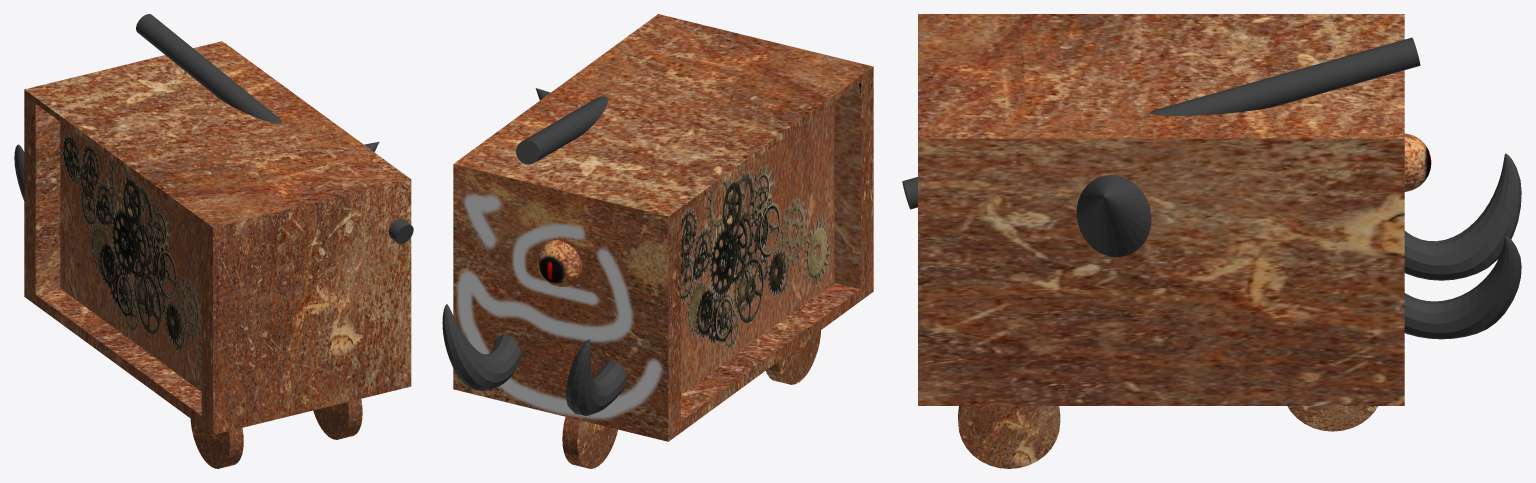
File: MetalBoar.gltf
The picture shows the model from 3 angles, left to right: view 1: azimuth 30°, elevation 25°; view 2: azimuth 150°, elevation 25°; view 3: azimuth 270°, elevation 25°; orthographic projection. The views are drawn at different scales.
Visible parts, largest first — view 1: Cube, Cylinder, Circle.001, Circle.002, 牙; view 2: Cube, 牙.001, 牙, Cylinder, Circle, Sphere, Circle.001; view 3: Cube, Cylinder, 牙, 牙.001, Circle.002, Cone, Circle, Sphere.
Part boxes in pixels (x1,y1,x2,y2): Cube: (24,41,411,434); Cylinder: (136,14,413,244); Circle.001: (190,419,243,468); Circle.002: (313,399,362,439); 牙: (14,144,24,200); Cube: (453,14,873,441); 牙.001: (442,304,521,390); 牙: (565,339,626,415); Cylinder: (516,96,607,164); Circle: (562,416,617,468); Sphere: (537,240,582,286); Circle.001: (766,330,820,384); Cube: (918,14,1404,405); Cylinder: (902,37,1420,209); 牙: (1404,153,1521,280); 牙.001: (1404,236,1521,339); Circle.002: (958,406,1060,468); Cone: (1076,175,1151,257); Circle: (1287,406,1377,431); Sphere: (1404,133,1431,191).
Size of the model in its own units: 1.55 by 1.95 by 2.7.
Materials: 2 (1 with a texture image).
